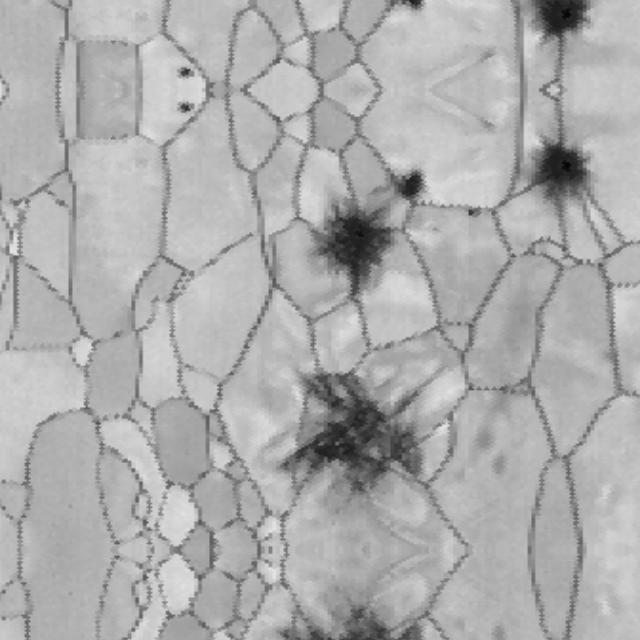good_void: (261, 360, 454, 512), (289, 179, 414, 307), (509, 123, 609, 217), (264, 601, 439, 640), (514, 0, 598, 50), (377, 151, 437, 213), (386, 0, 437, 11), (463, 201, 483, 221), (176, 96, 196, 114), (176, 64, 196, 82)
